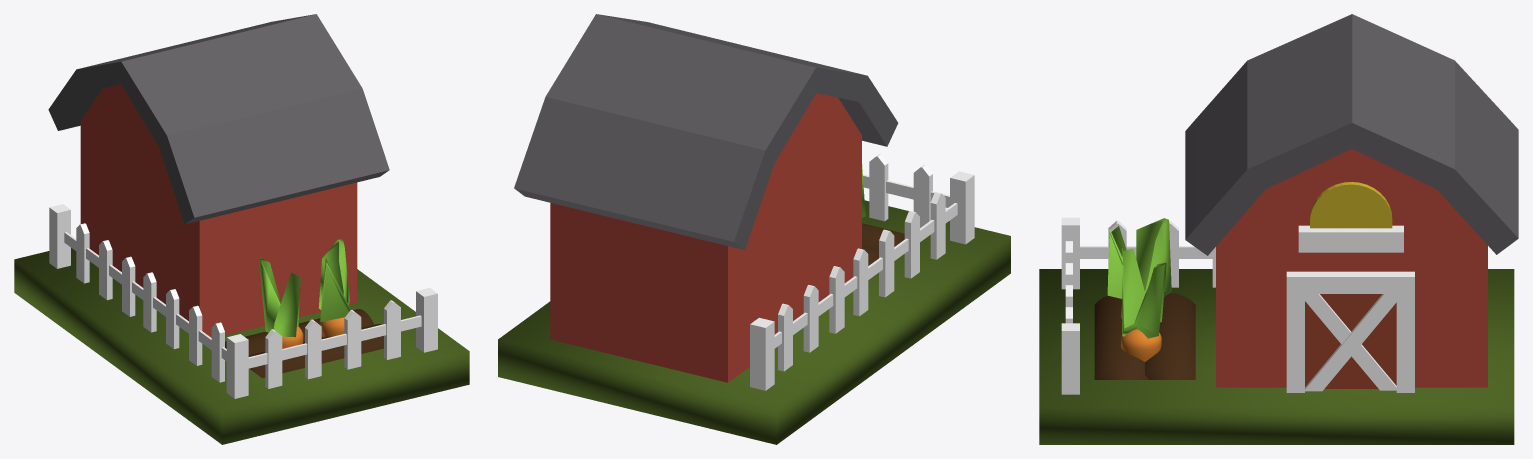
3 renders of one model, left to right at view 1: azimuth 30°, elevation 25°; view 2: azimuth 150°, elevation 25°; view 3: azimuth 270°, elevation 25°, orthographic. The views are drawn at different scales.
Visible parts, largest first — view 1: roof_2, building_1, dirt_6, fence_8, plant 1.002_12, plant 1.001_10, soil_0, carrots_11; view 2: roof_2, building_1, dirt_6, fence_8, soil_0; view 3: roof_2, dirt_6, building_1, door_3, soil_0, door panel_7, fence_8, cross_9, window_4, plant 1.002_12, plant 1.001_10, windowsil_5 (+1 smaller).
Part boxes in pixels (x1=…): roof_2: x1=48, y1=14, x2=389, y2=224; building_1: x1=80, y1=84, x2=357, y2=337; dirt_6: x1=14, y1=248, x2=469, y2=444; fence_8: x1=49, y1=204, x2=437, y2=398; plant 1.002_12: x1=259, y1=257, x2=300, y2=337; plant 1.001_10: x1=318, y1=239, x2=350, y2=321; soil_0: x1=225, y1=309, x2=383, y2=378; carrots_11: x1=267, y1=317, x2=344, y2=348; roof_2: x1=514, y1=14, x2=898, y2=249; building_1: x1=550, y1=93, x2=861, y2=382; dirt_6: x1=498, y1=200, x2=1010, y2=444; fence_8: x1=750, y1=154, x2=974, y2=390; soil_0: x1=862, y1=223, x2=904, y2=265; roof_2: x1=1185, y1=14, x2=1518, y2=255; dirt_6: x1=1039, y1=269, x2=1514, y2=444; building_1: x1=1216, y1=149, x2=1487, y2=387; door_3: x1=1286, y1=271, x2=1414, y2=392; soil_0: x1=1094, y1=293, x2=1195, y2=379; door panel_7: x1=1305, y1=294, x2=1396, y2=388; fence_8: x1=1061, y1=217, x2=1215, y2=394; cross_9: x1=1305, y1=294, x2=1396, y2=391; window_4: x1=1310, y1=182, x2=1392, y2=228; plant 1.002_12: x1=1107, y1=218, x2=1171, y2=298; plant 1.001_10: x1=1122, y1=248, x2=1166, y2=338; windowsil_5: x1=1298, y1=225, x2=1403, y2=252.
Bounding box in the file's own units: 2.4 × 2.83 × 3.53.
